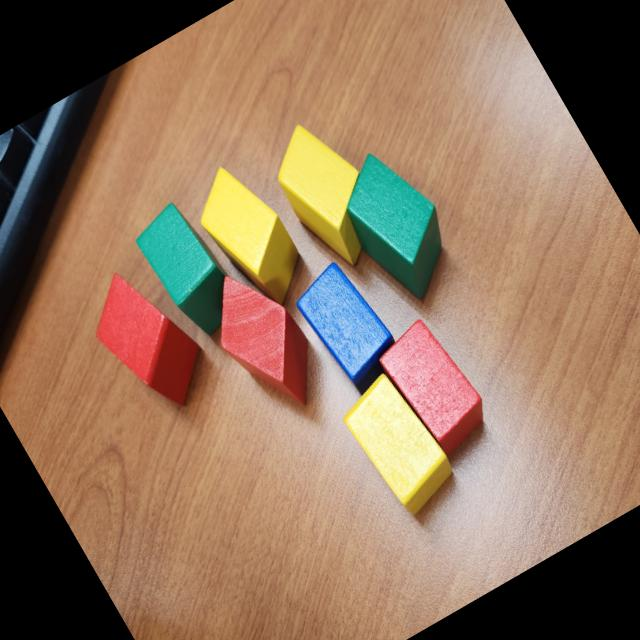blue: (286, 252, 412, 401)
green: (324, 138, 474, 314), (126, 197, 248, 346)
red: (74, 255, 224, 428), (190, 253, 337, 429), (371, 310, 498, 462)
yellow: (257, 108, 401, 280), (180, 153, 318, 320), (332, 365, 467, 525)
